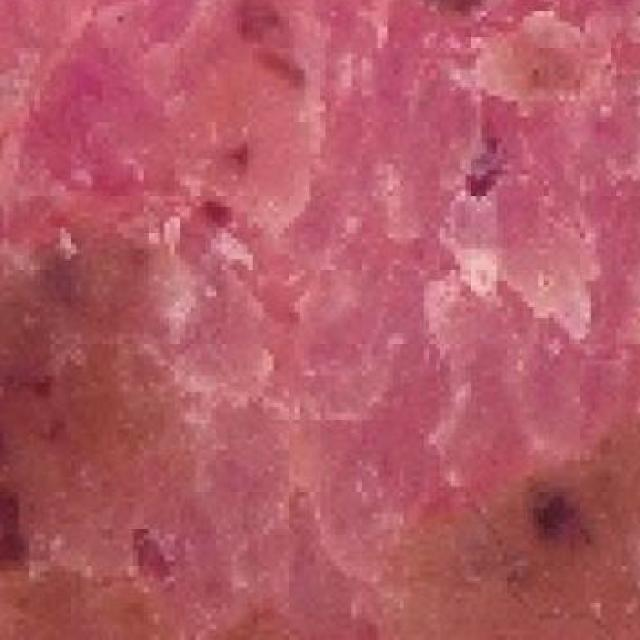BKL: (0, 249, 640, 640)
